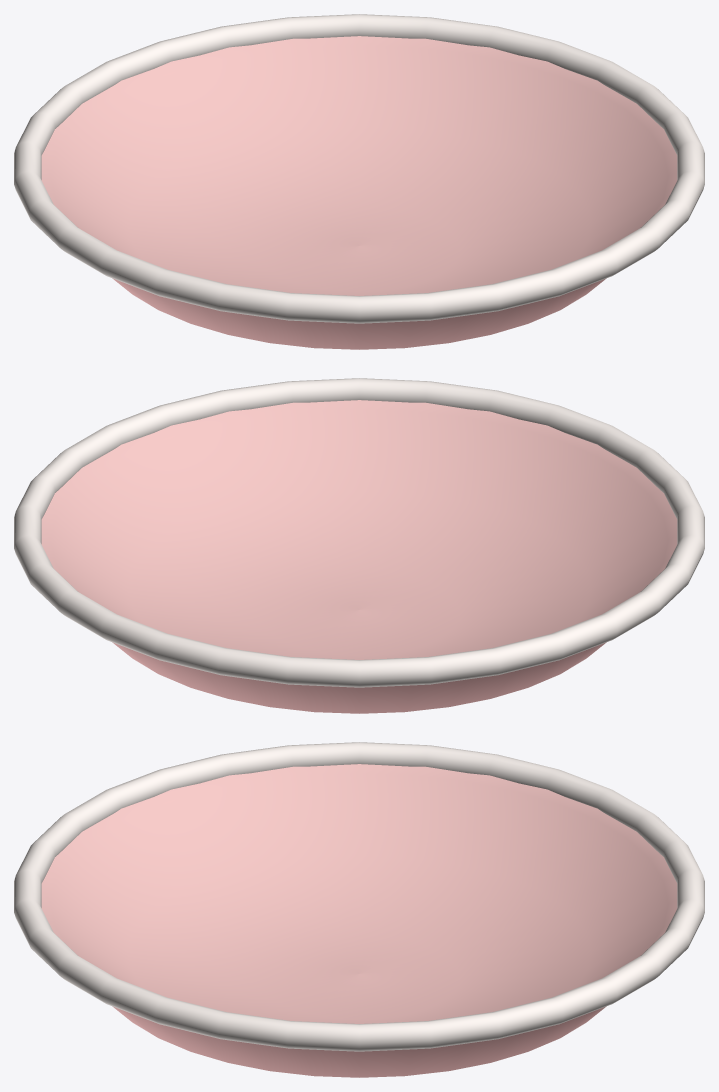
Rendered from home_tool_bowl.glb.
The picture shows the model from 3 angles, top to bottom: view 1: azimuth 30°, elevation 25°; view 2: azimuth 150°, elevation 25°; view 3: azimuth 270°, elevation 25°; orthographic projection.
Bounding box in the file's own units: 0.9 × 0.194 × 0.8951.
